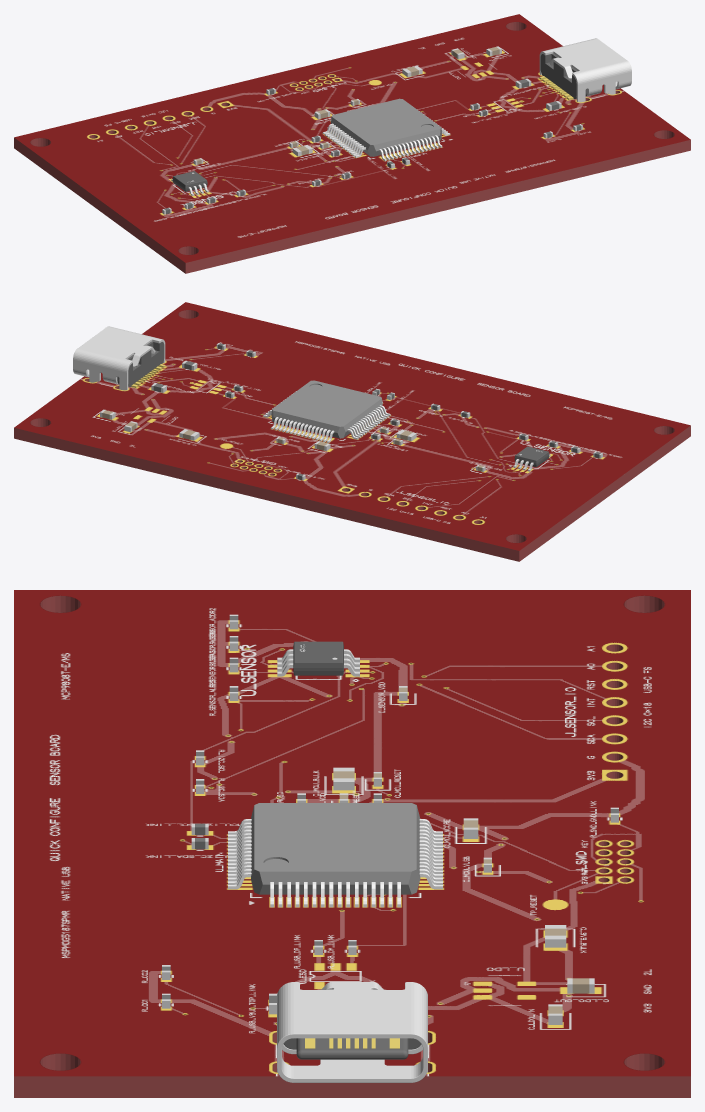
The picture shows the model from 3 angles, top to bottom: view 1: azimuth 30°, elevation 25°; view 2: azimuth 150°, elevation 25°; view 3: azimuth 270°, elevation 25°; orthographic projection. The views are drawn at different scales.
Visible parts, largest first — view 1: Box0, U_MAIN, J_USB, U_SENSOR; view 2: Box0, U_MAIN, J_USB, U_SENSOR; view 3: Box0, U_MAIN, J_USB, U_SENSOR.
Boxes of the visible parts, x1,y1,x2,y2 form: Box0: (14,14,690,273); U_MAIN: (322,98,450,161); J_USB: (539,38,631,102); U_SENSOR: (171,171,208,195); Box0: (14,302,690,561); U_MAIN: (263,380,390,442); J_USB: (73,326,165,390); U_SENSOR: (513,446,550,471); Box0: (14,590,690,1097); U_MAIN: (228,803,442,907); J_USB: (277,982,427,1082); U_SENSOR: (277,641,359,676).
Size of the model in its own units: 69.04 by 4.65 by 40.
13 materials, 2 textured.
